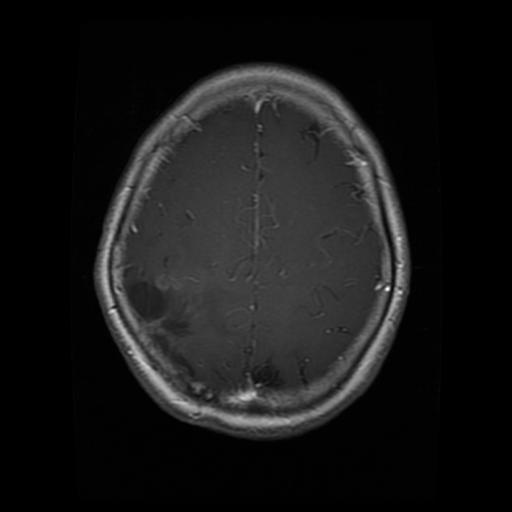Gliomia_tumour: (126, 281, 248, 390)
